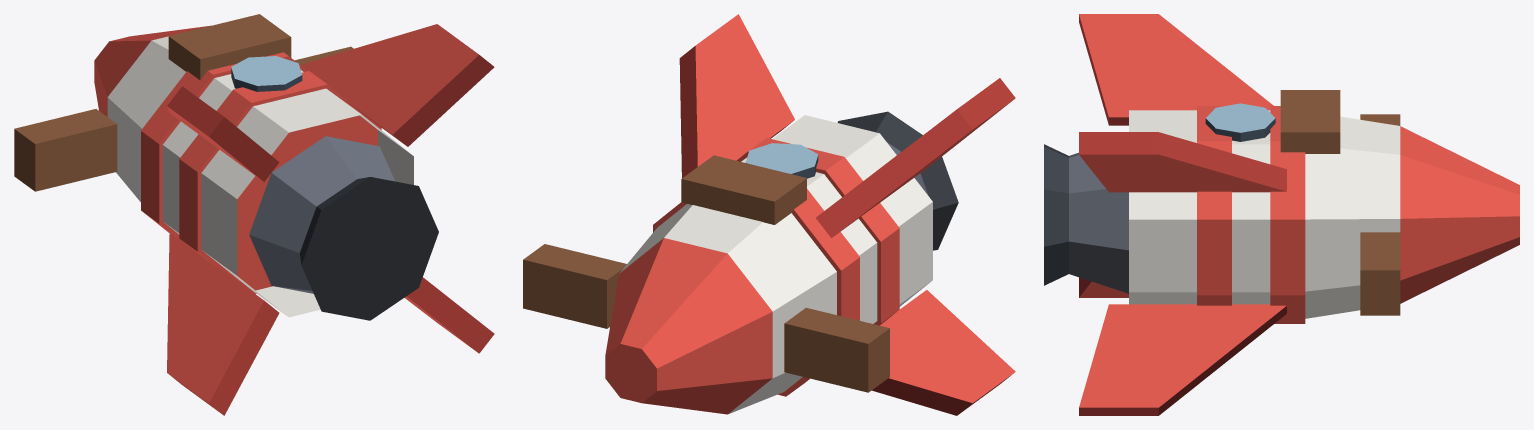
File: S_Rocket.fbx
3 renders of one model, left to right at view 1: azimuth 30°, elevation 25°; view 2: azimuth 150°, elevation 25°; view 3: azimuth 270°, elevation 25°, orthographic. The views are drawn at different scales.
Visible parts, largest first — view 1: S_Rocket; view 2: S_Rocket; view 3: S_Rocket.
Boxes of the visible parts, x1=… form: S_Rocket: x1=14, y1=14, x2=494, y2=415; S_Rocket: x1=523, y1=14, x2=1015, y2=415; S_Rocket: x1=1044, y1=14, x2=1519, y2=415.
Bounding box in the file's own units: 0.37 × 0.314 × 0.477.
